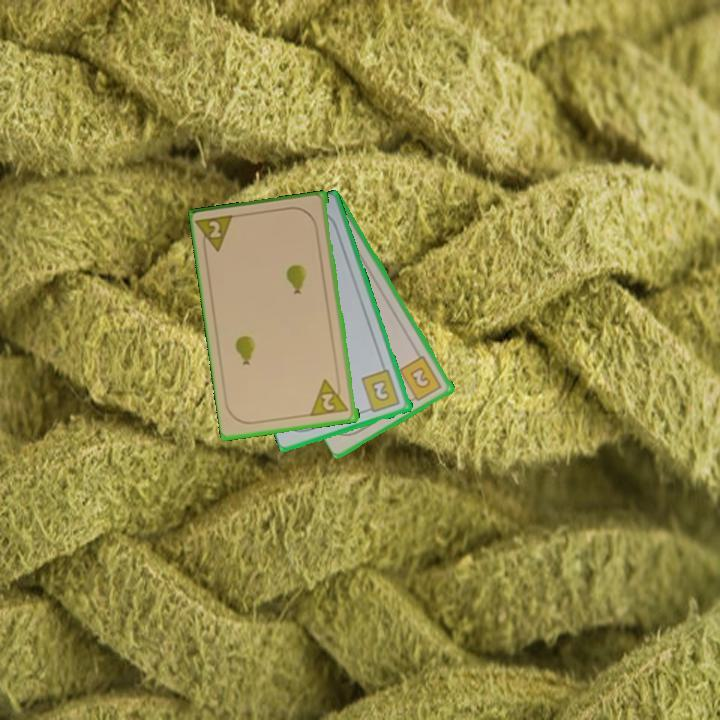2b: (396, 352, 445, 404), (358, 366, 403, 416)
2p: (194, 211, 239, 257), (308, 375, 352, 419)
